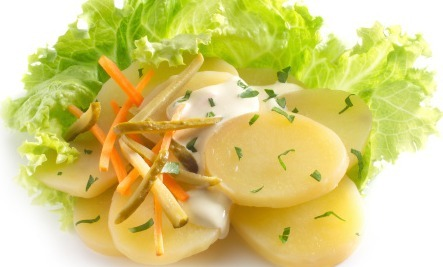boiled potatoes: (84, 65, 366, 265)
chopped lettuce: (76, 1, 287, 60)
